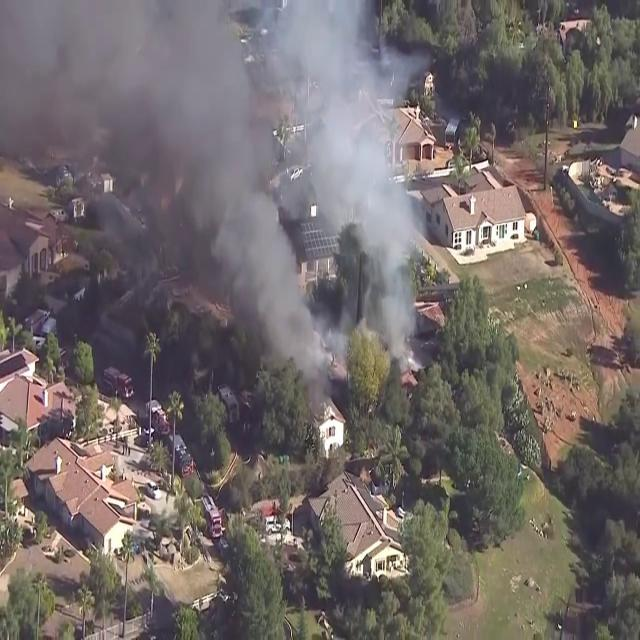Smoke: (91, 0, 429, 385)
